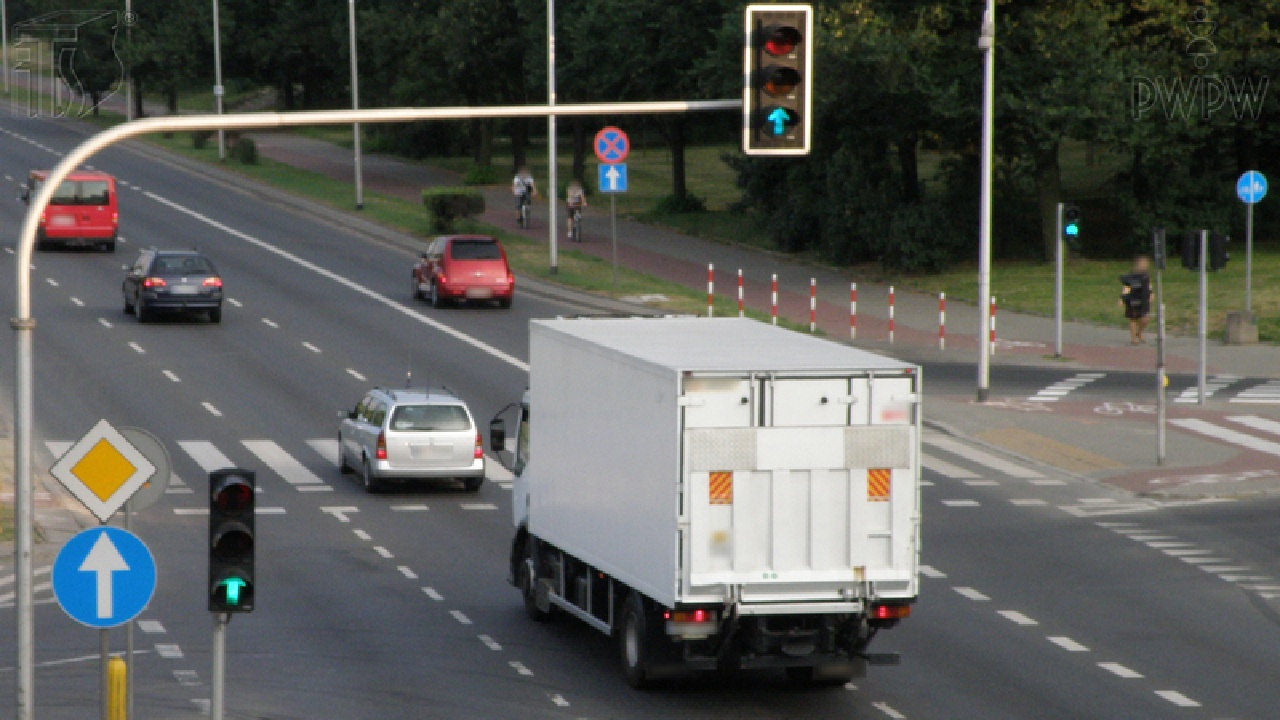B36: (594, 126, 629, 163)
C5: (51, 526, 158, 631)
D1: (47, 417, 159, 524)
D3: (596, 161, 627, 191)
Green: (756, 8, 801, 146), (212, 469, 250, 612)
